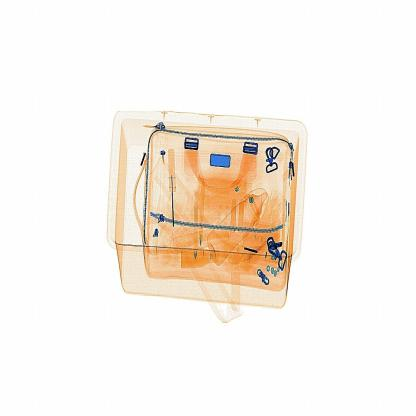wrench: (166, 143, 181, 222)
